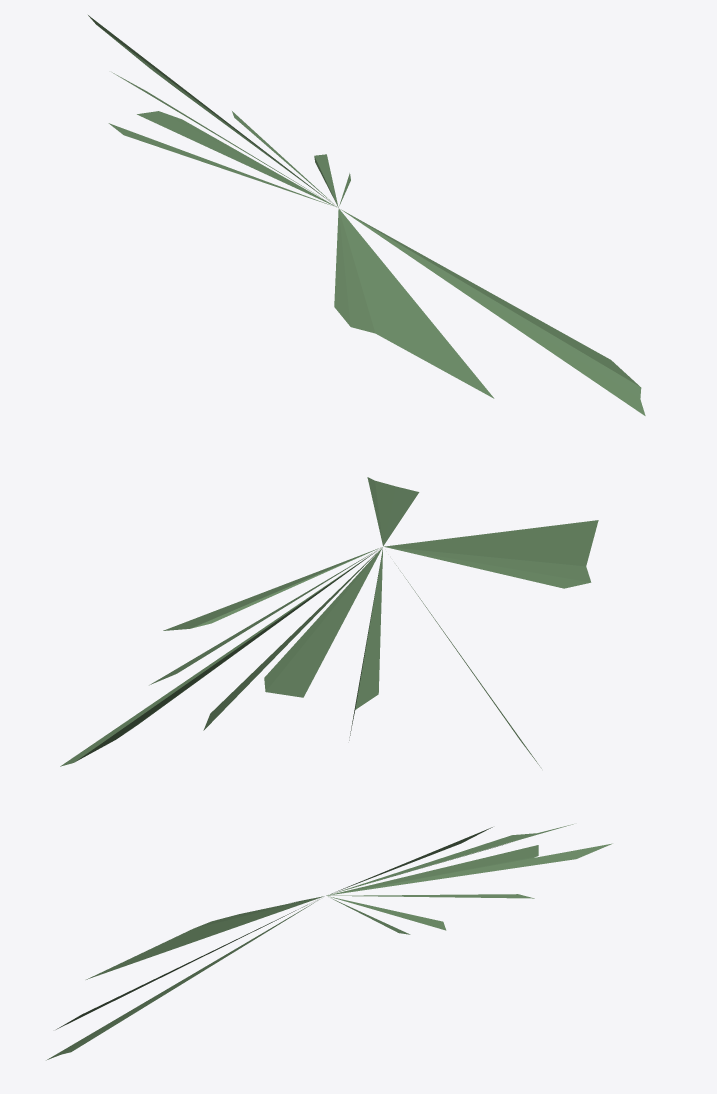
File: c_1669_17818_forest.glb
The picture shows the model from 3 angles, top to bottom: view 1: azimuth 30°, elevation 25°; view 2: azimuth 150°, elevation 25°; view 3: azimuth 270°, elevation 25°; orthographic projection. The views are drawn at different scales.
Visible parts, largest first — view 1: geometry_0; view 2: geometry_0; view 3: geometry_0.
Part boxes in pixels (x1,y1,x2,y2): geometry_0: (88,15,645,415); geometry_0: (60,477,598,768); geometry_0: (46,824,612,1060).
Bounding box in the file's own units: 279 × 114 × 494.
